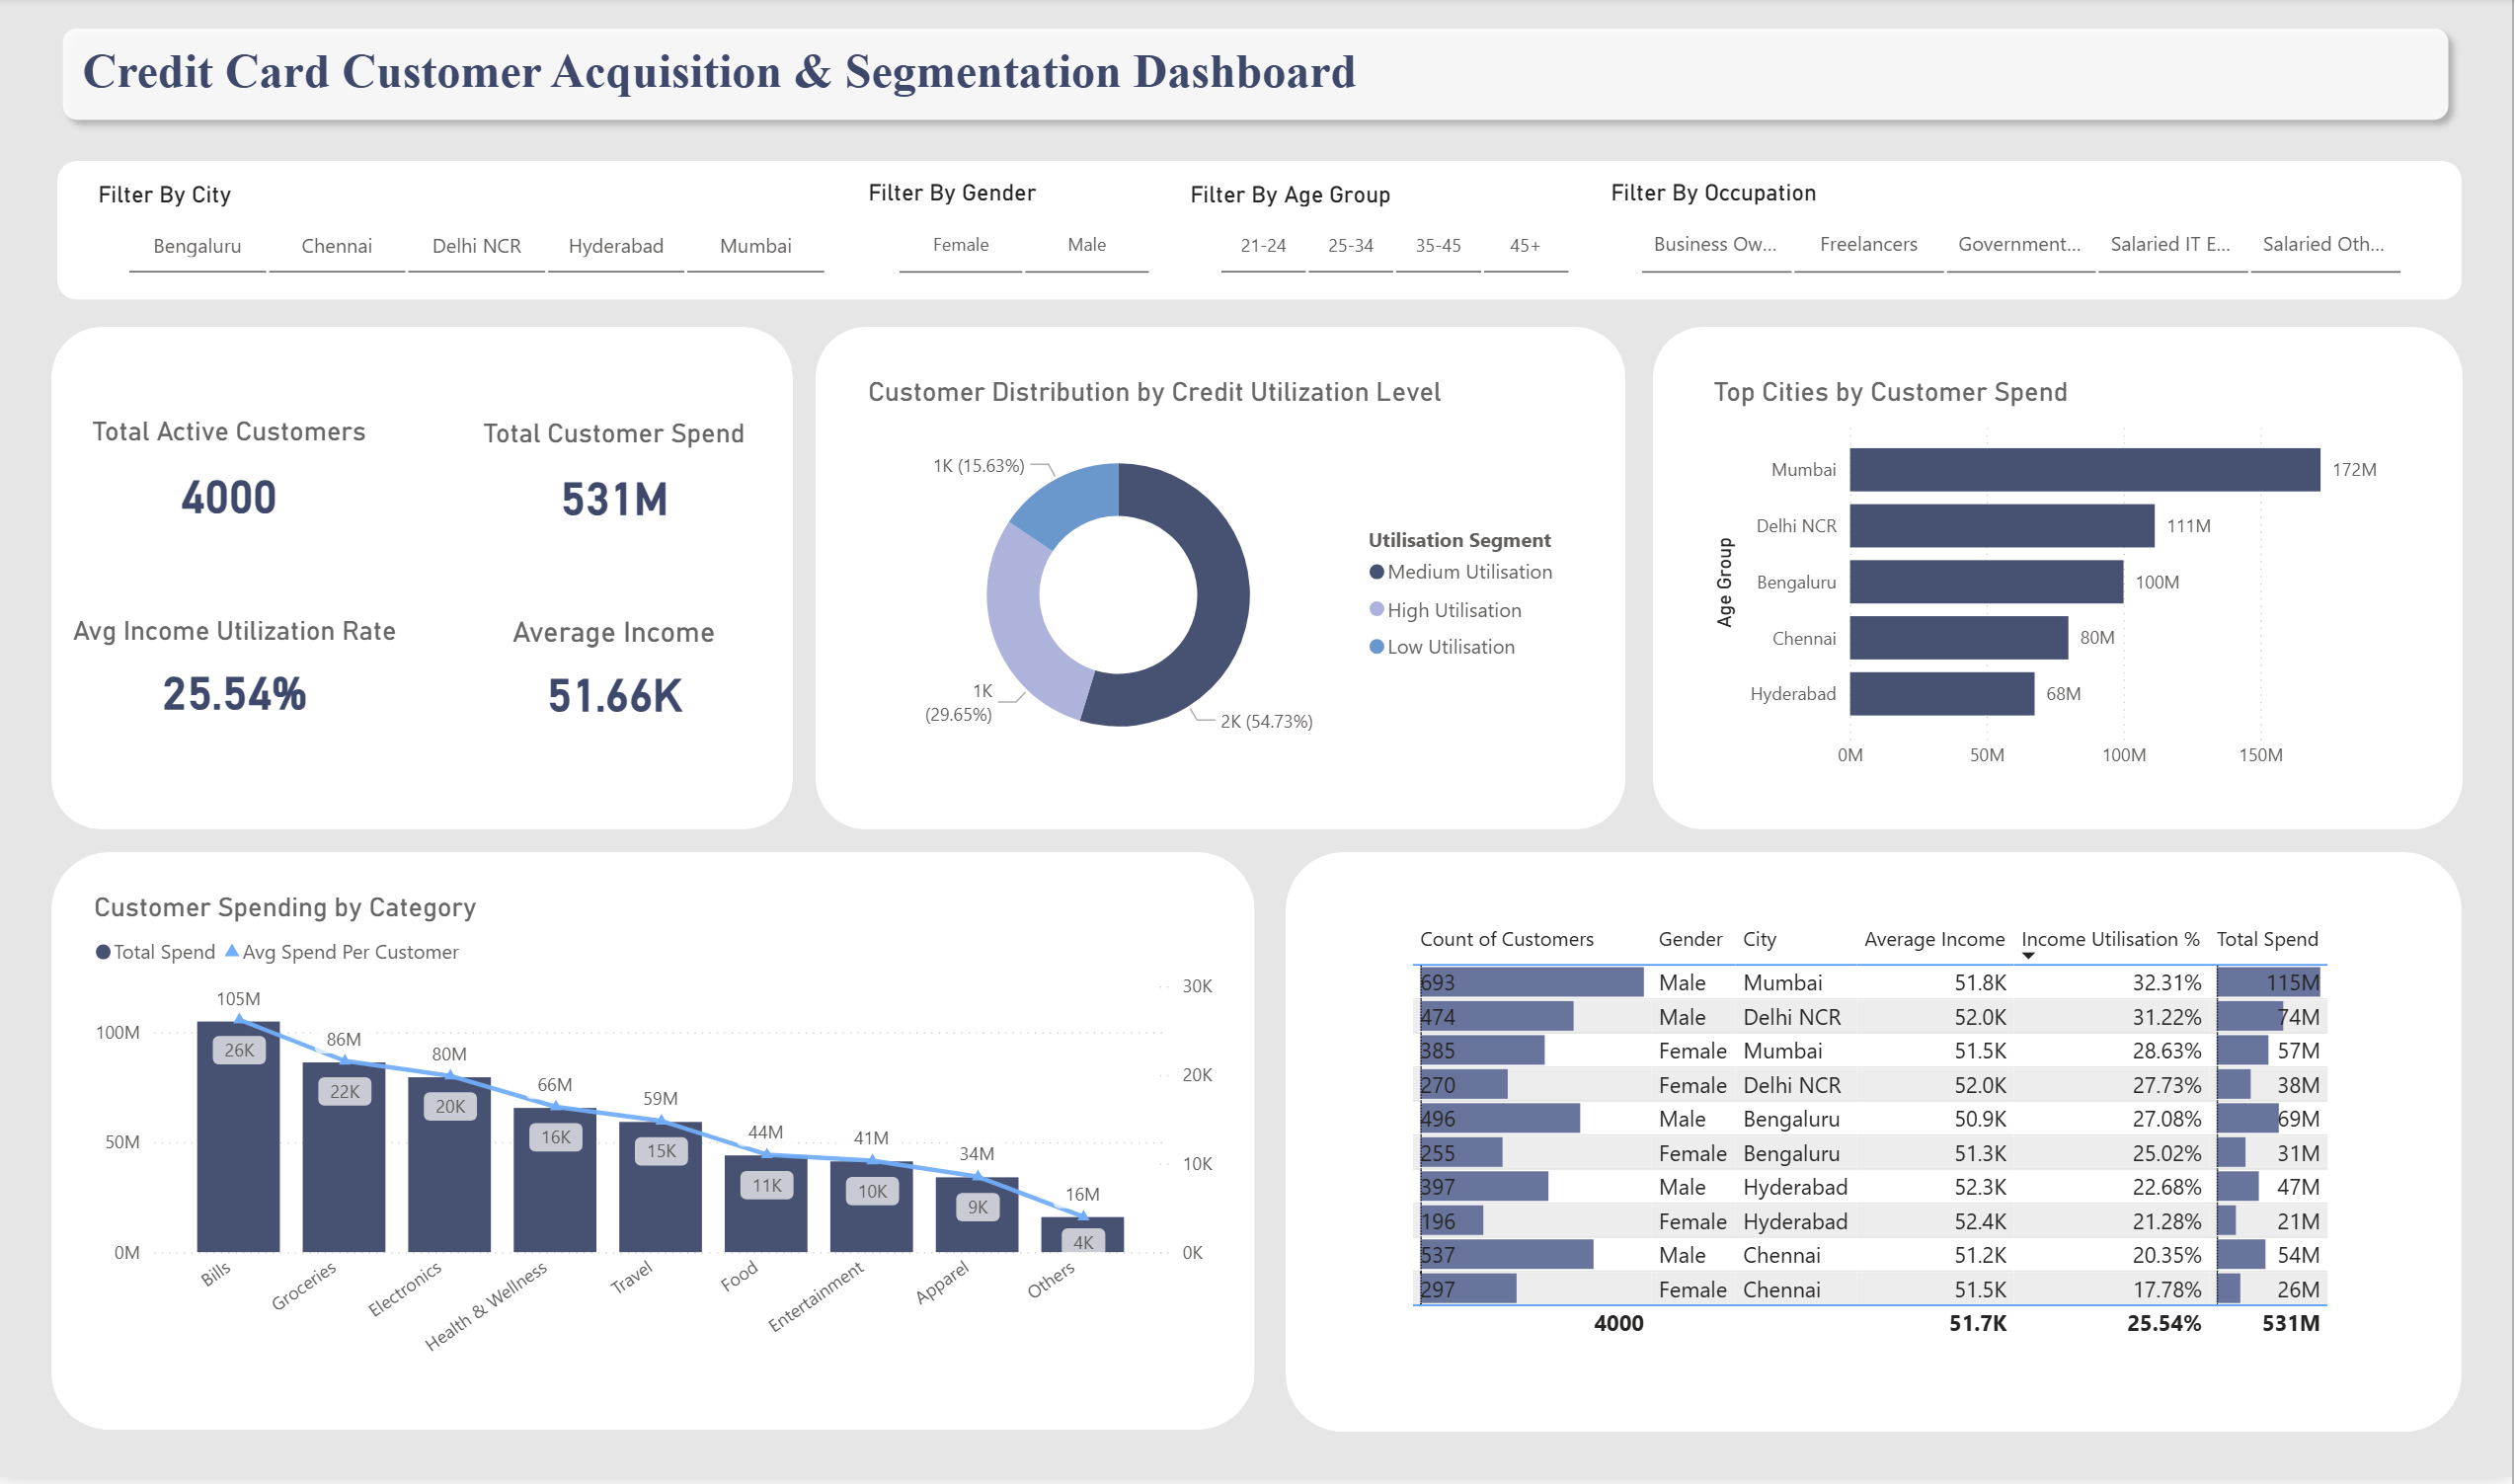

This screenshot's page, from the dashboard's own definition file:
{"tool":"powerbi","page":{"name":"Page 1","canvas":[1700,1000],"ordinal":0},"visuals":[{"type":"shape","box":[871.5,577.9,794.7,392],"z":0},{"type":"shape","box":[36.9,577.9,813.1,390.4],"z":1000},{"type":"shape","box":[1119,222.9,547.2,339.7],"z":2000},{"type":"shape","box":[553.3,222.9,547.2,339.7],"z":3000},{"type":"shape","box":[36.9,222.9,501.1,339.7],"z":4000},{"type":"shape","box":[41.5,110.7,1624.7,93.8],"z":5000},{"type":"card","title":"Total Active Customers","fields":{"Values":["Key Measures.Total Customers"]},"box":[41.5,282.8,232.1,84.5],"z":6000},{"type":"card","title":"Total Customer Spend","fields":{"Values":["Key Measures.Total Spend"]},"box":[298.2,284.4,239.8,84.5],"z":7000},{"type":"card","title":"Average Income","fields":{"Values":["Key Measures.Average Income"]},"box":[298.2,418.1,239.8,81.5],"z":8000},{"type":"card","title":"Avg Income Utilization Rate","fields":{"Values":["Key Measures.Income Utilisation %"]},"box":[41.5,418.1,239.8,81.5],"z":9000},{"type":"tableEx","fields":{"Values":["dim_customers.customer_id","dim_customers.gender","dim_customers.city","Key Measures.Average Income","Key Measures.Income Utilisation %","Key Measures.Total Spend"]},"box":[951.4,621,636.3,305.9],"z":10000},{"type":"slicer","title":"Filter By City","fields":{"Values":["dim_customers.city"]},"box":[64.6,124.5,519.5,69.2],"z":11000},{"type":"slicer","title":"Filter By Age Group","fields":{"Values":["dim_customers.age_group"]},"box":[802.4,124.5,284.4,69.2],"z":12000},{"type":"slicer","title":"Filter By Occupation","fields":{"Values":["dim_customers.occupation"]},"box":[1086.7,123,562.6,70.7],"z":13000},{"type":"slicer","title":"Filter By Gender","fields":{"Values":["dim_customers.gender"]},"box":[584.1,123,218.3,70.7],"z":14000},{"type":"donutChart","title":"Customer Distribution by Credit Utilization Level","fields":{"Category":["dim_customers.Utilisation Segment"],"Y":["Key Measures.Total Customers"]},"box":[584.1,256.7,485.7,275.1],"z":15000},{"type":"lineClusteredColumnComboChart","title":"Customer Spending by Category","fields":{"Category":["fact_spends.category"],"Y":["Key Measures.Total Spend"],"Y2":["Key Measures.Avg Spend Per Customer"]},"box":[61.5,604.1,765.5,330.5],"z":16000},{"type":"clusteredBarChart","title":"Top Cities by Customer Spend","fields":{"Category":["dim_customers.city"],"Y":["Key Measures.Total Spend"]},"box":[1155.6,256.7,475.6,274.4],"z":17000},{"type":"shape","box":[36.7,11.7,1630,80],"z":18000},{"type":"textbox","box":[53.3,26.7,1595,48.3],"z":19000}]}

Visuals, with their boxes in screenshot pixels (x1, y1, x2, y2), scaled from the page's 1700x1000 canvas onto the 2515x1484 screenshot:
shape: (x1=1290, y1=858, x2=2465, y2=1440)
shape: (x1=54, y1=858, x2=1258, y2=1437)
shape: (x1=1656, y1=331, x2=2465, y2=835)
shape: (x1=819, y1=331, x2=1628, y2=835)
shape: (x1=54, y1=331, x2=796, y2=835)
shape: (x1=61, y1=164, x2=2465, y2=303)
"Total Active Customers" card: (x1=61, y1=420, x2=405, y2=545)
"Total Customer Spend" card: (x1=441, y1=422, x2=796, y2=547)
"Average Income" card: (x1=441, y1=620, x2=796, y2=742)
"Avg Income Utilization Rate" card: (x1=61, y1=620, x2=416, y2=742)
tableEx - dim_customers.customer_id x dim_customers.gender: (x1=1407, y1=921, x2=2349, y2=1375)
"Filter By City" slicer: (x1=96, y1=185, x2=864, y2=287)
"Filter By Age Group" slicer: (x1=1187, y1=185, x2=1608, y2=287)
"Filter By Occupation" slicer: (x1=1608, y1=183, x2=2440, y2=287)
"Filter By Gender" slicer: (x1=864, y1=183, x2=1187, y2=287)
"Customer Distribution by Credit Utilization Level" donutChart: (x1=864, y1=381, x2=1583, y2=789)
"Customer Spending by Category" lineClusteredColumnComboChart: (x1=91, y1=897, x2=1223, y2=1387)
"Top Cities by Customer Spend" clusteredBarChart: (x1=1709, y1=381, x2=2413, y2=788)
shape: (x1=54, y1=18, x2=2466, y2=136)
textbox: (x1=79, y1=39, x2=2439, y2=112)
